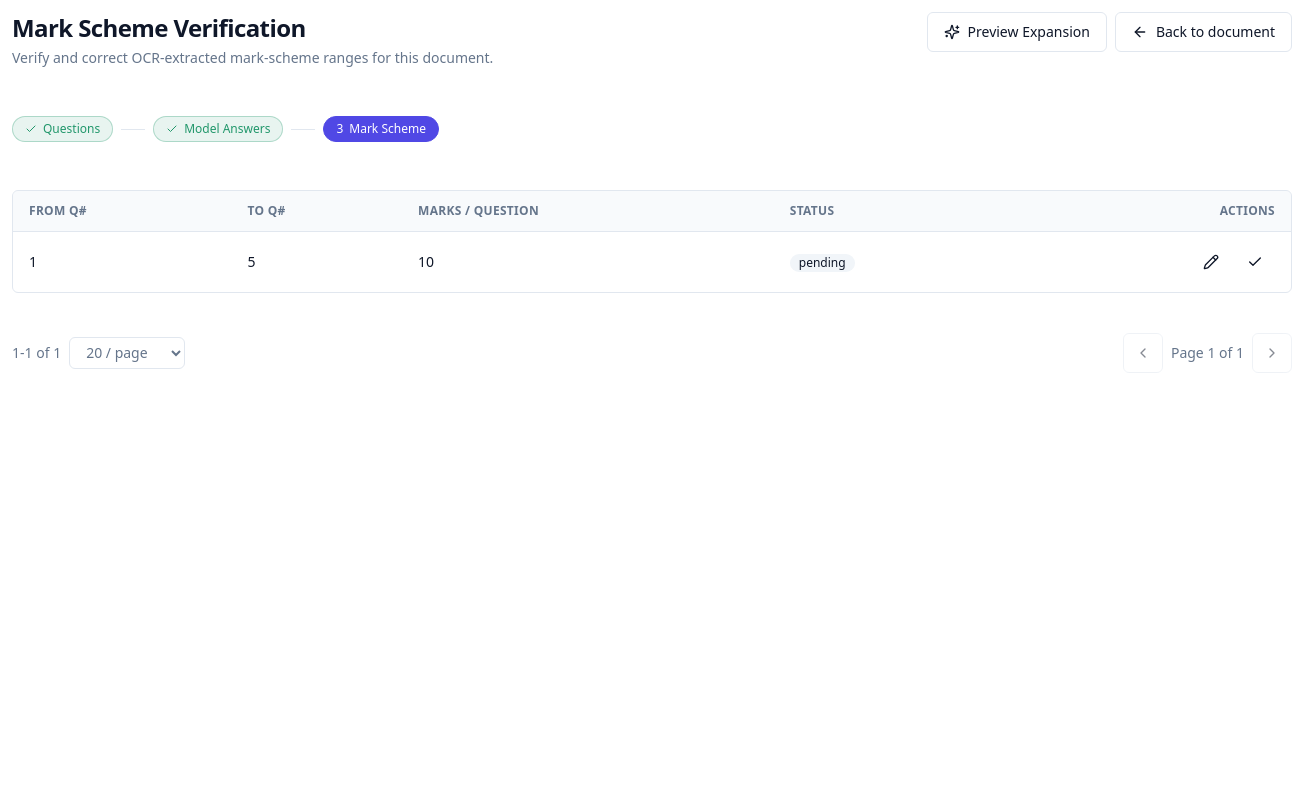
Test: MarkSchemeVerificationPage › verifies a mark scheme range and shows a success toast
This screenshot has width=1304, height=812.
Expected: the text "pending" is shown, [790,254,855,272]
Click the button named "Verify range 1-5" at (1255, 262), box [1235,242,1275,282]
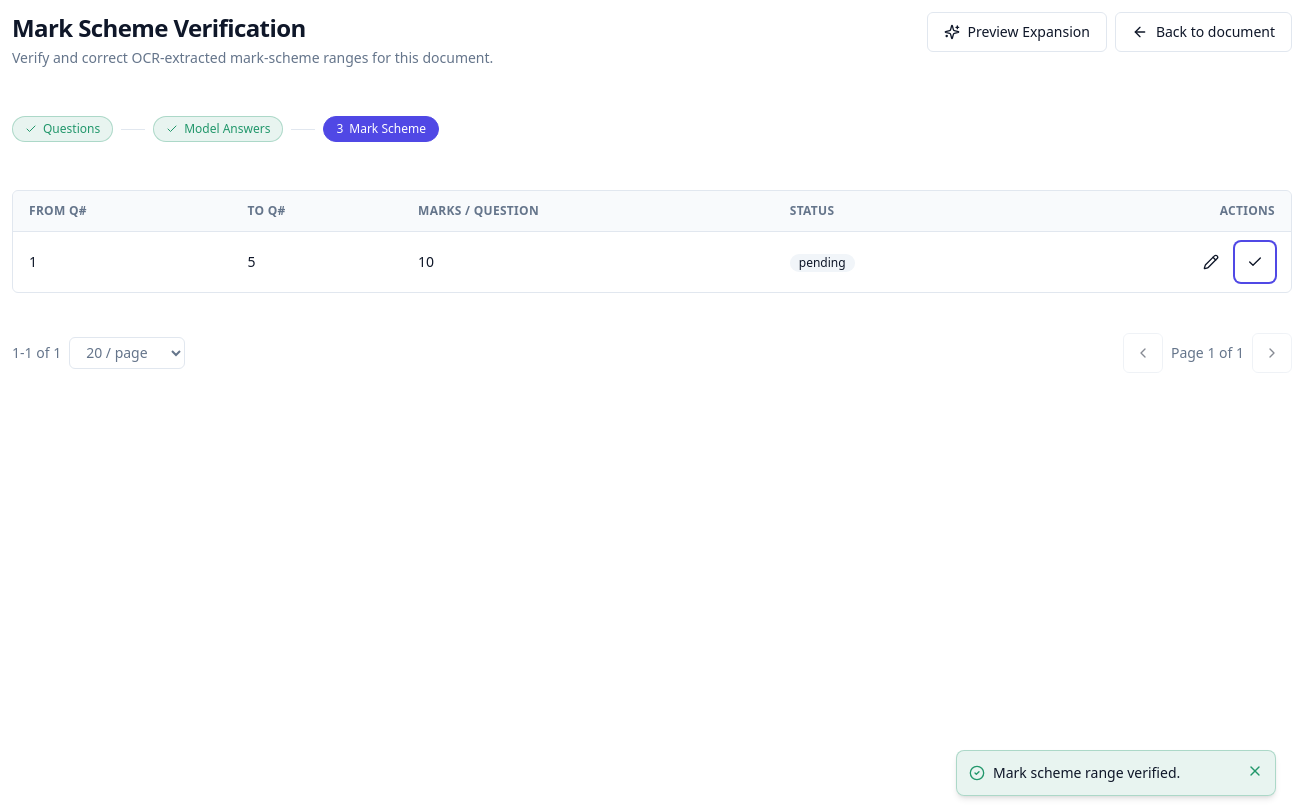
Expected: the text "Mark scheme range verified." is shown, [993,763,1180,782]
